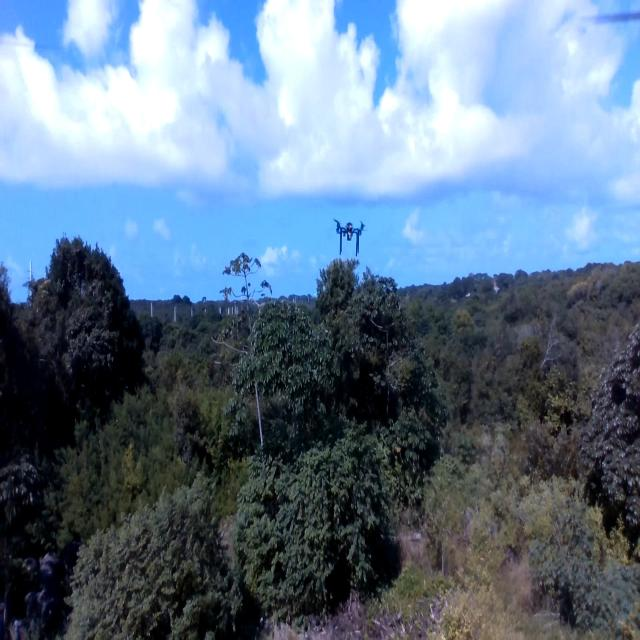-uav-: (331, 212, 366, 255)
